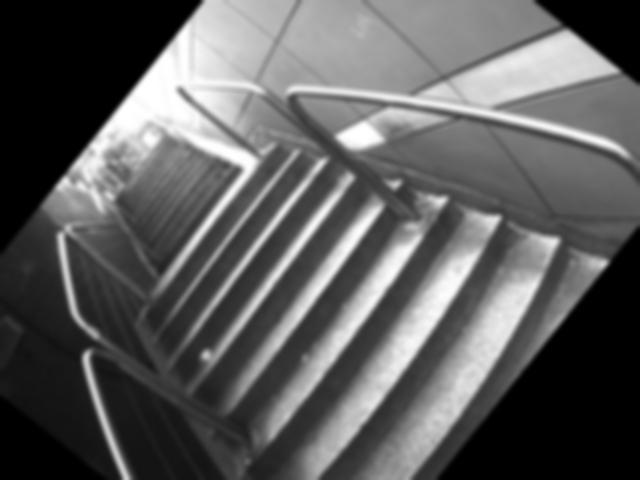Escaleras: (75, 17, 627, 480), (85, 118, 242, 285)
